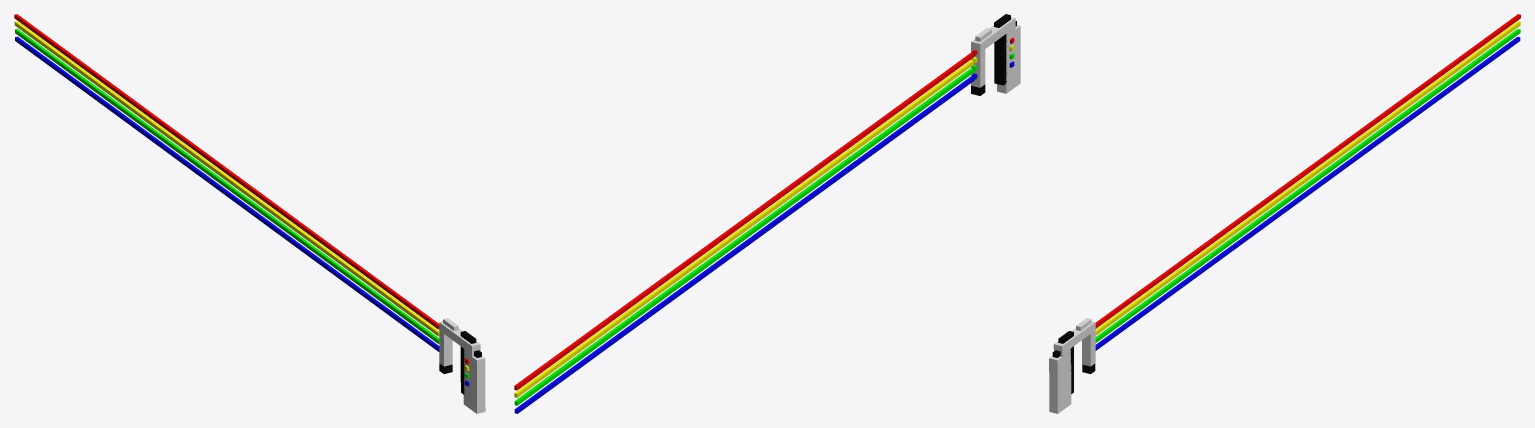
The model's file is Space1999.glb.
3 renders of one model, left to right at view 1: azimuth 30°, elevation 25°; view 2: azimuth 150°, elevation 25°; view 3: azimuth 330°, elevation 25°, orthographic. The views are drawn at different scales.
Visible parts, largest first — view 1: redlaser, yellowlaser, greenlaser, bluelaser, Cube, Cube.001, Cube.3; view 2: bluelaser, greenlaser, yellowlaser, redlaser, Cube.001, Cube.013, Cube.3; view 3: yellowlaser, redlaser, greenlaser, bluelaser, Cube, Cube.001, Cube.3.
Part boxes in pixels (x1,y1,x2,y2): redlaser: (14,14,439,329); yellowlaser: (14,21,439,336); greenlaser: (15,28,439,343); bluelaser: (15,36,439,351); Cube: (472,356,485,413); Cube.001: (463,339,480,409); Cube.3: (439,321,452,366); bluelaser: (514,76,974,413); greenlaser: (514,67,974,405); yellowlaser: (514,60,974,397); redlaser: (514,52,973,390); Cube.001: (997,17,1015,93); Cube.013: (994,34,1007,85); Cube.3: (971,39,985,87); yellowlaser: (1095,21,1520,335); redlaser: (1095,14,1520,328); greenlaser: (1095,29,1520,342); bluelaser: (1095,36,1520,350); Cube: (1049,356,1062,413); Cube.001: (1053,339,1071,409); Cube.3: (1082,321,1095,366).
Size of the model in its own units: 0.0266 by 0.1673 by 2.07.
